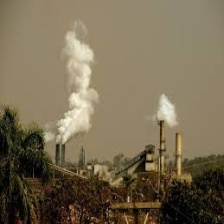smoke: (48, 25, 102, 137), (153, 93, 179, 126)
